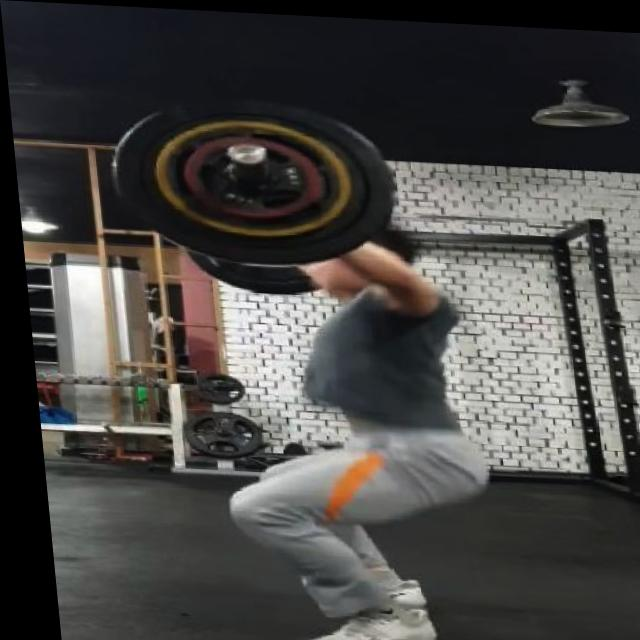barbell: (97, 87, 401, 277)
